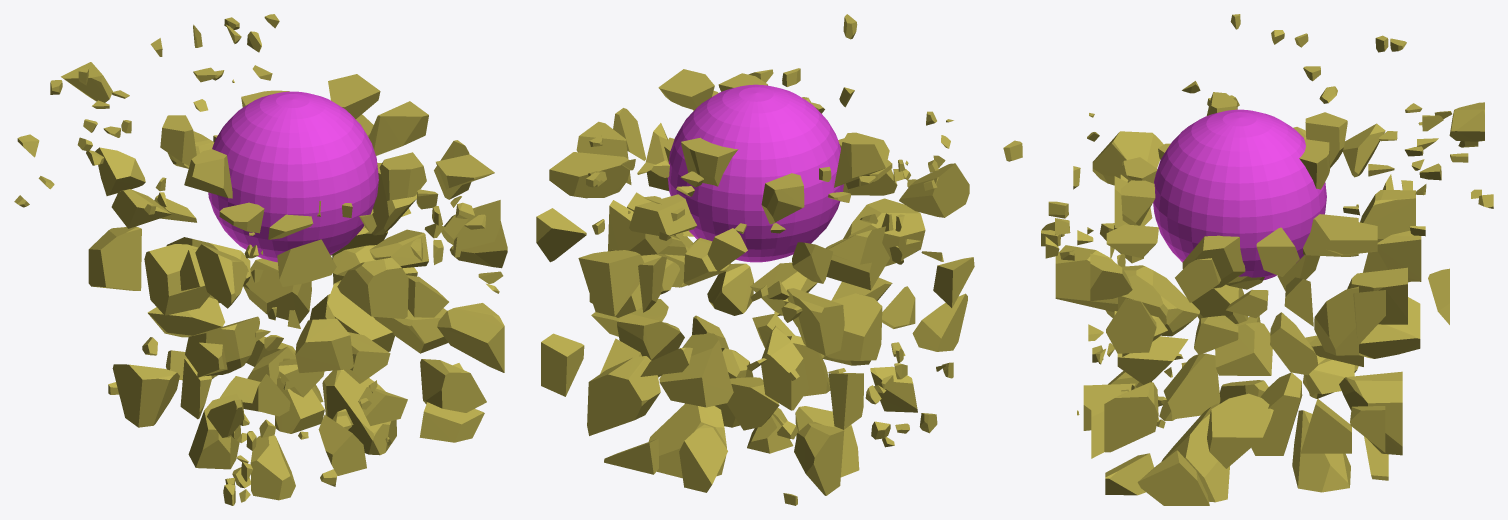
File: Cube_Smash.glb
The picture shows the model from 3 angles, left to right: view 1: azimuth 30°, elevation 25°; view 2: azimuth 150°, elevation 25°; view 3: azimuth 270°, elevation 25°; orthographic projection. The views are drawn at different scales.
Parts seen in each view (by area): view 1: Sphere, Cube_cell.044, Cube_cell.042, Cube_cell.018, Cube_cell.084, Cube_cell.024, Cube_cell.070, Cube_cell.067, Cube_cell.003, Cube_cell.069, Cube_cell.019, Cube_cell.043 (+38 smaller); view 2: Sphere, Cube_cell.069, Cube_cell.010, Cube_cell.077, Cube_cell.038, Cube_cell.084, Cube_cell.043, Cube_cell.018, Cube_cell.016, Cube_cell.070, Cube_cell.045, Cube_cell.067 (+40 smaller); view 3: Sphere, Cube_cell.036, Cube_cell.069, Cube_cell.044, Cube_cell.042, Cube_cell.080, Cube_cell.016, Cube_cell.034, Cube_cell.005, Cube_cell.071, Cube_cell.024, Cube_cell.060 (+38 smaller).
Boxes of the visible parts, bbox=[...] form: Sphere: bbox=[208, 91, 378, 262]; Cube_cell.044: bbox=[337, 257, 408, 318]; Cube_cell.042: bbox=[437, 303, 504, 372]; Cube_cell.018: bbox=[88, 226, 141, 290]; Cube_cell.084: bbox=[112, 364, 179, 427]; Cube_cell.024: bbox=[322, 369, 396, 455]; Cube_cell.070: bbox=[144, 244, 210, 315]; Cube_cell.067: bbox=[295, 318, 353, 372]; Cube_cell.003: bbox=[420, 359, 486, 412]; Cube_cell.069: bbox=[243, 258, 311, 323]; Cube_cell.019: bbox=[250, 435, 295, 500]; Cube_cell.043: bbox=[185, 316, 259, 376]; Sphere: bbox=[667, 84, 843, 262]; Cube_cell.069: bbox=[587, 356, 660, 435]; Cube_cell.010: bbox=[659, 333, 733, 407]; Cube_cell.077: bbox=[578, 250, 644, 316]; Cube_cell.038: bbox=[549, 152, 630, 198]; Cube_cell.084: bbox=[794, 423, 844, 495]; Cube_cell.043: bbox=[826, 293, 882, 360]; Cube_cell.018: bbox=[761, 326, 808, 410]; Cube_cell.016: bbox=[648, 403, 726, 478]; Cube_cell.070: bbox=[787, 288, 844, 355]; Cube_cell.045: bbox=[899, 163, 969, 217]; Cube_cell.067: bbox=[843, 198, 925, 266]; Sphere: bbox=[1153, 109, 1326, 280]; Cube_cell.036: bbox=[1207, 393, 1273, 468]; Cube_cell.069: bbox=[1339, 371, 1402, 455]; Cube_cell.044: bbox=[1118, 265, 1199, 336]; Cube_cell.042: bbox=[1104, 382, 1158, 452]; Cube_cell.080: bbox=[1163, 353, 1220, 418]; Cube_cell.016: bbox=[1292, 410, 1350, 492]; Cube_cell.034: bbox=[1137, 450, 1209, 505]; Cube_cell.005: bbox=[1215, 322, 1272, 375]; Cube_cell.071: bbox=[1251, 372, 1302, 455]; Cube_cell.024: bbox=[1161, 403, 1229, 502]; Cube_cell.060: bbox=[1314, 286, 1358, 355].
Bounding box in the file's own units: 4.62 × 4.73 × 5.62.
